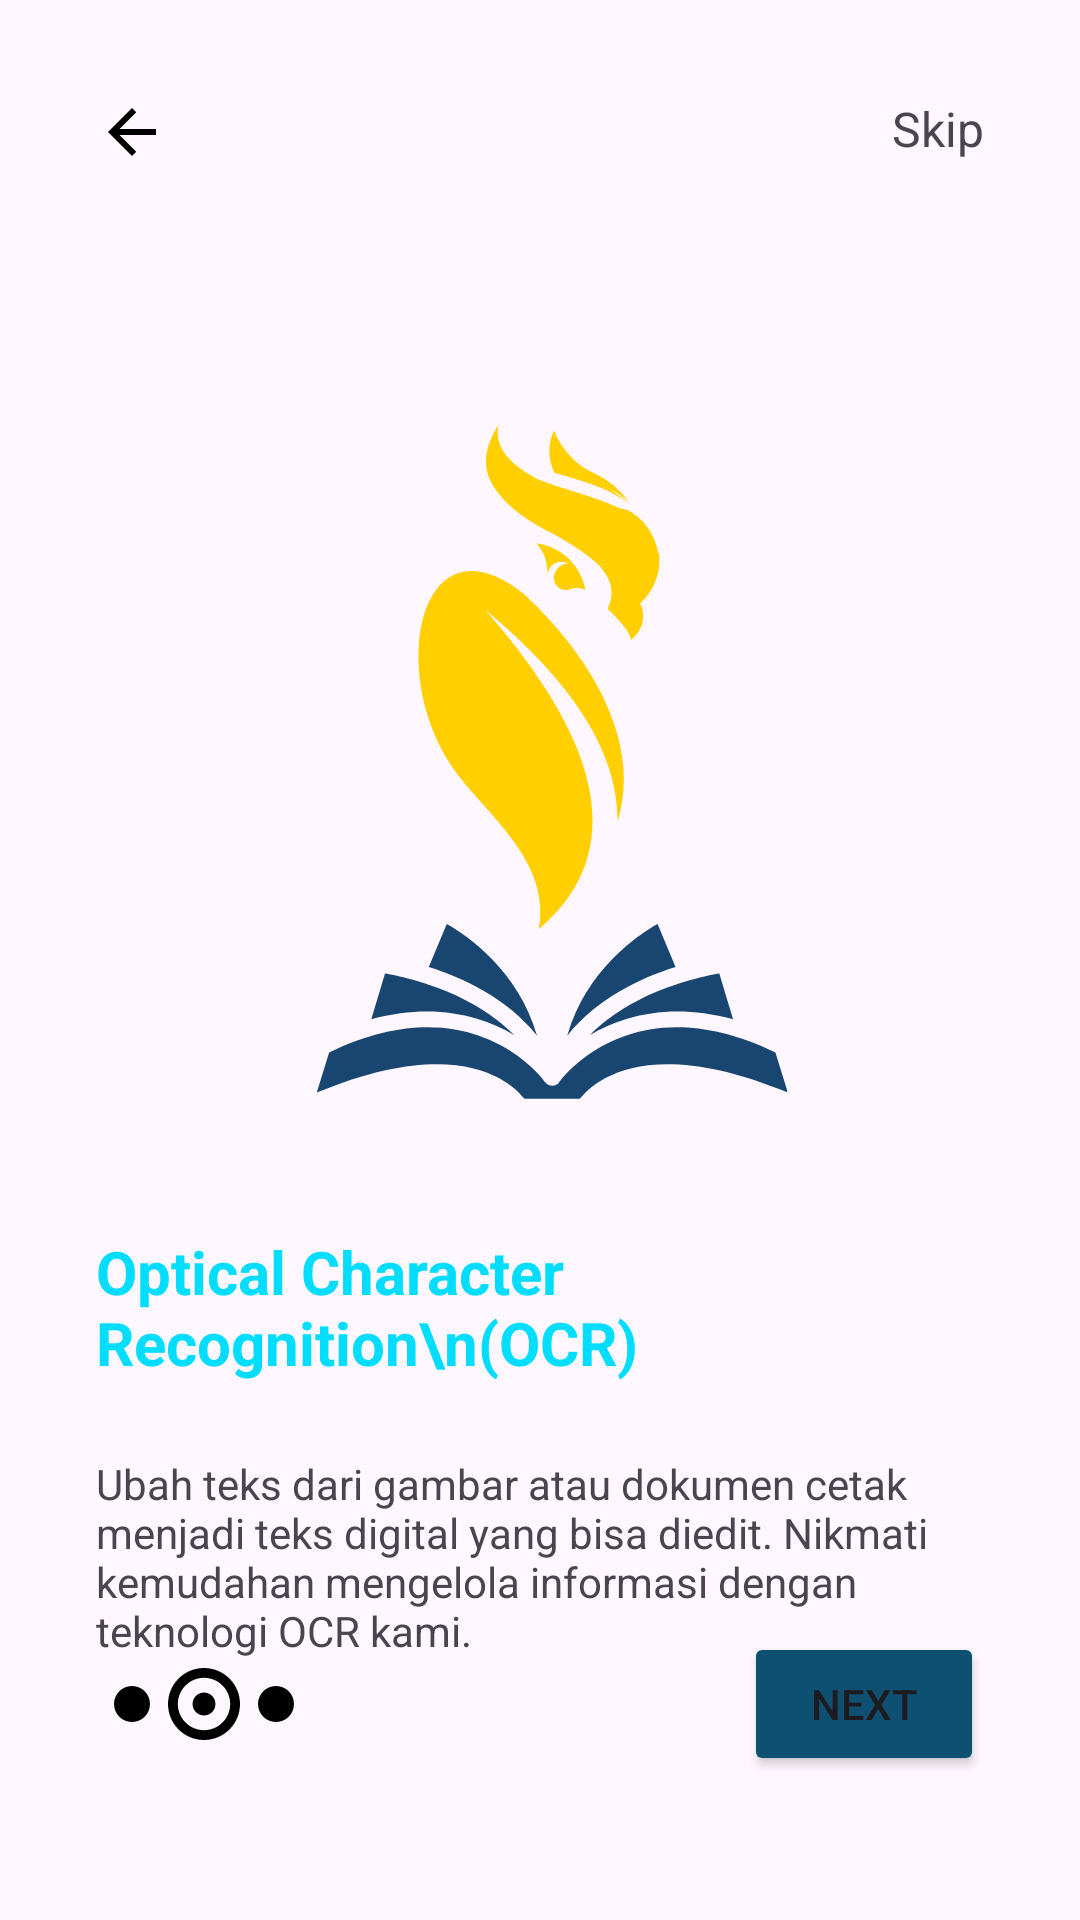

Where icons sit on this 1080 x 1920 app screen, as (x1, y1, x2, y2):
Back: (108, 108, 156, 156)
dot: (114, 1686, 150, 1722), (258, 1686, 294, 1722)
